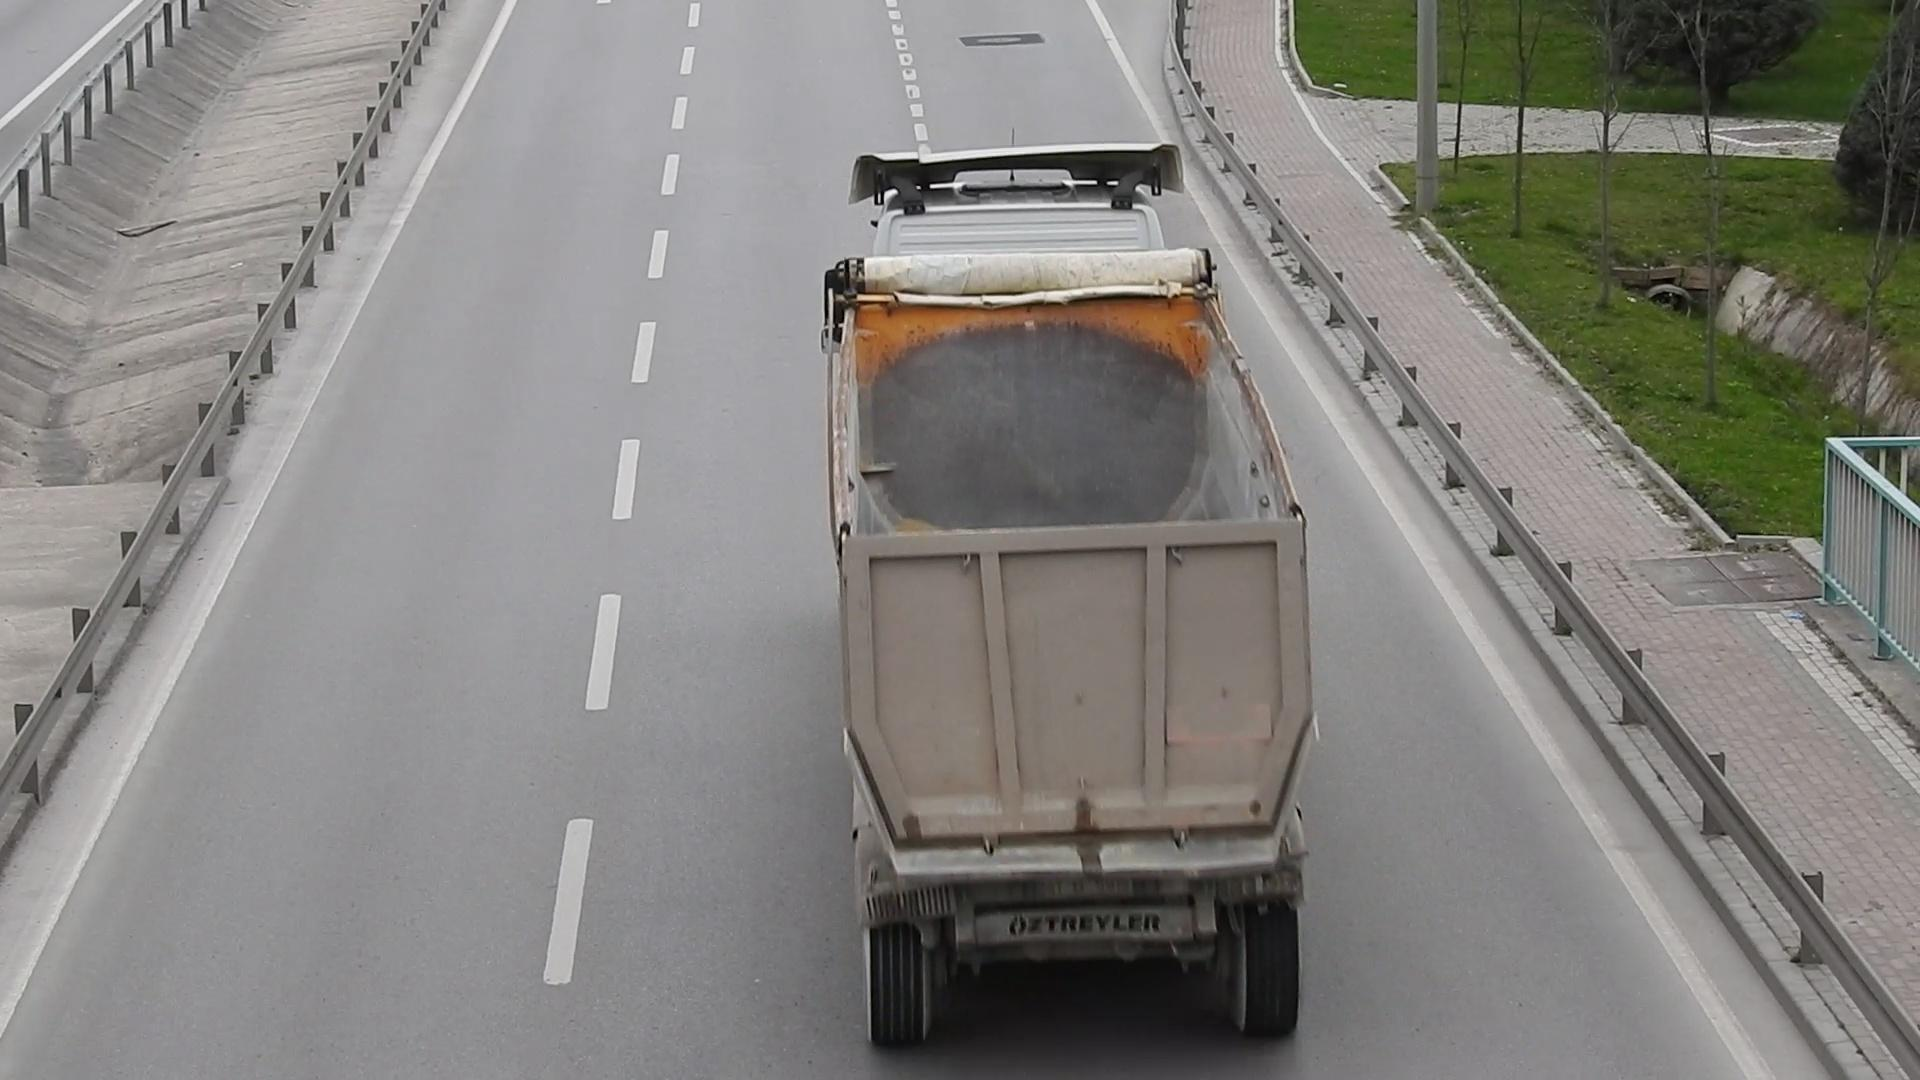Lorry: (824, 142, 1327, 1080)
